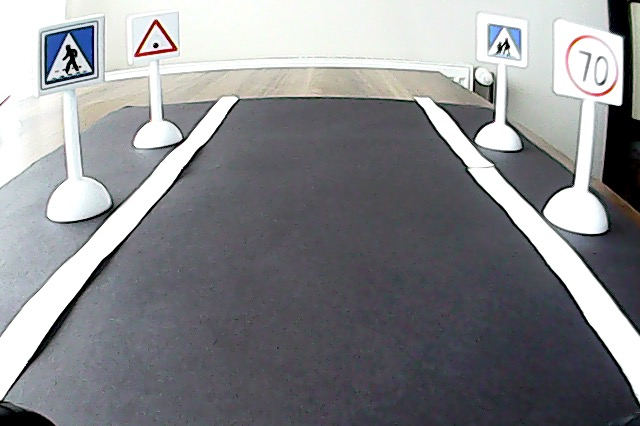green light: (131, 19, 181, 58)
pedestrian crossing: (40, 30, 103, 84)
school crossing: (481, 20, 527, 64)
speed limit 70: (563, 30, 621, 99)
